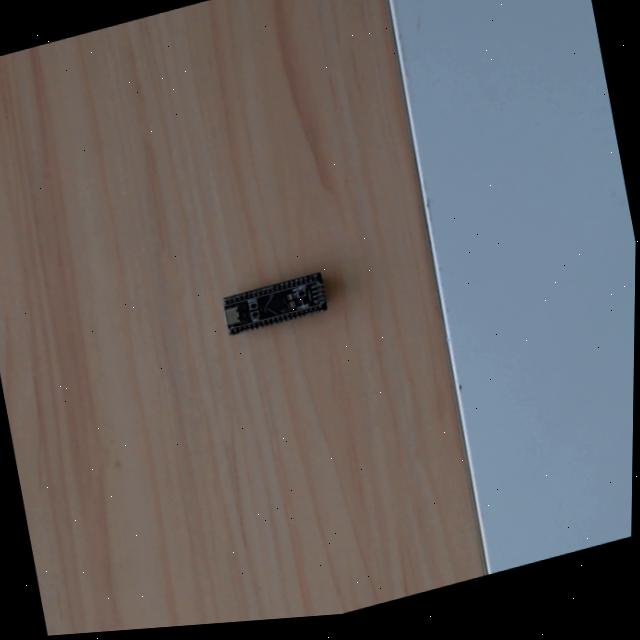STM32-Blackpill: (215, 269, 331, 338)
